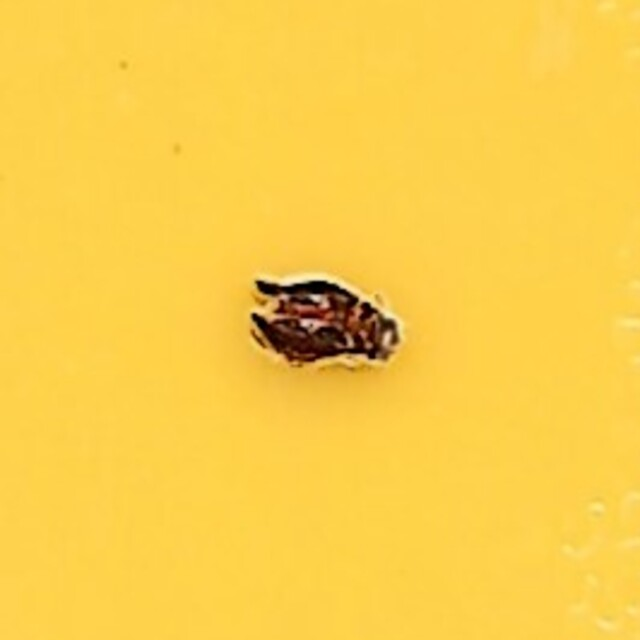Hemiptera: (241, 270, 399, 370)
